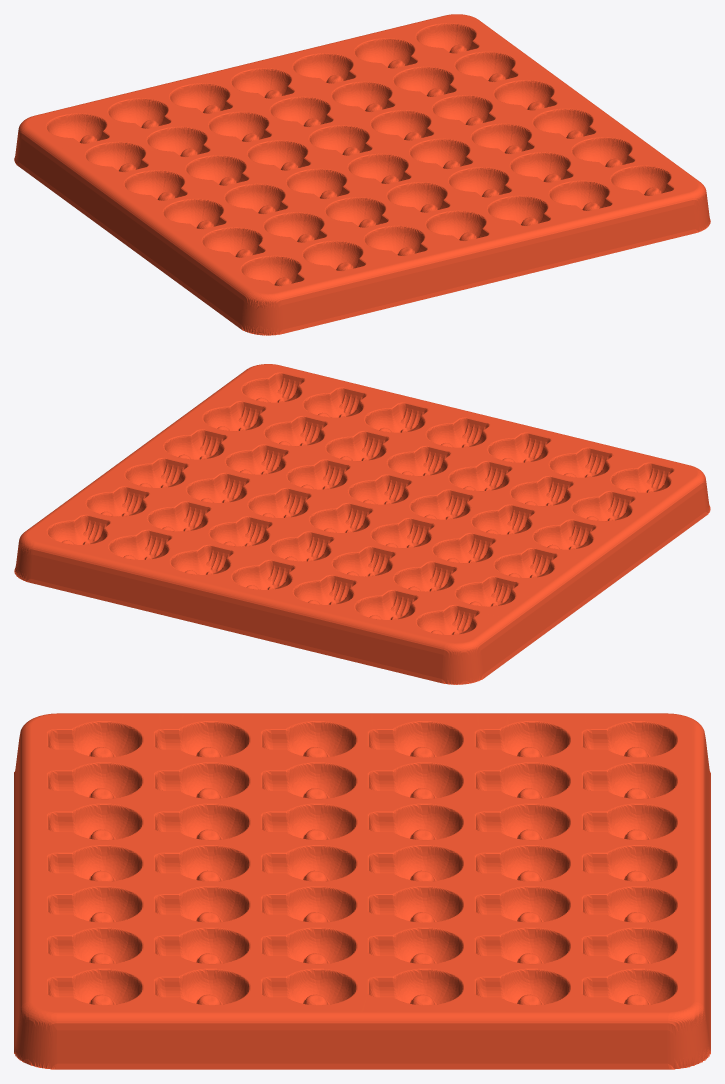
File: mold.glb
3 renders of one model, top to bottom at view 1: azimuth 30°, elevation 25°; view 2: azimuth 150°, elevation 25°; view 3: azimuth 270°, elevation 25°, orthographic. The views are drawn at different scales.
Parts seen in each view (by area): view 1: geometry_0; view 2: geometry_0; view 3: geometry_0.
Boxes of the visible parts, <box> form: geometry_0: <box>14,14,710,335</box>; geometry_0: <box>14,364,710,684</box>; geometry_0: <box>14,713,710,1069</box>.
Bounding box in the file's own units: 0.1524 × 0.0114 × 0.1437.
